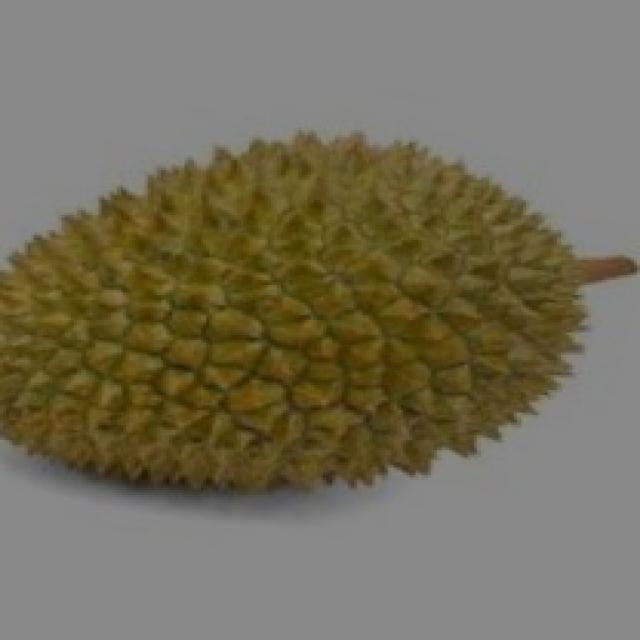fruit: (280, 112, 631, 538), (0, 140, 342, 555)
